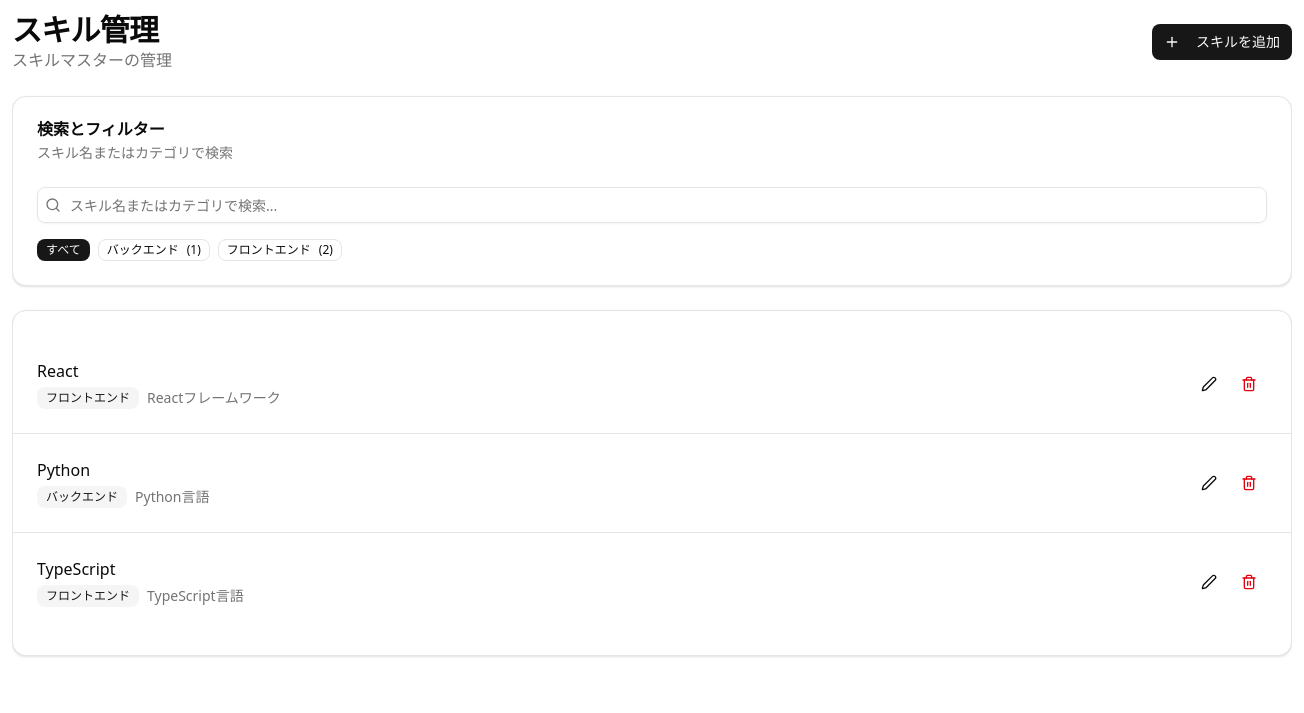
Scenario: Skills Component › 管理者の場合 › 編集をキャンセルできる
Expected: the text "React" is shown, [37,360,78,382]
Click the button named "編集" in the row of "Reactフレームワーク": (1209,384) [1191,366,1227,402]
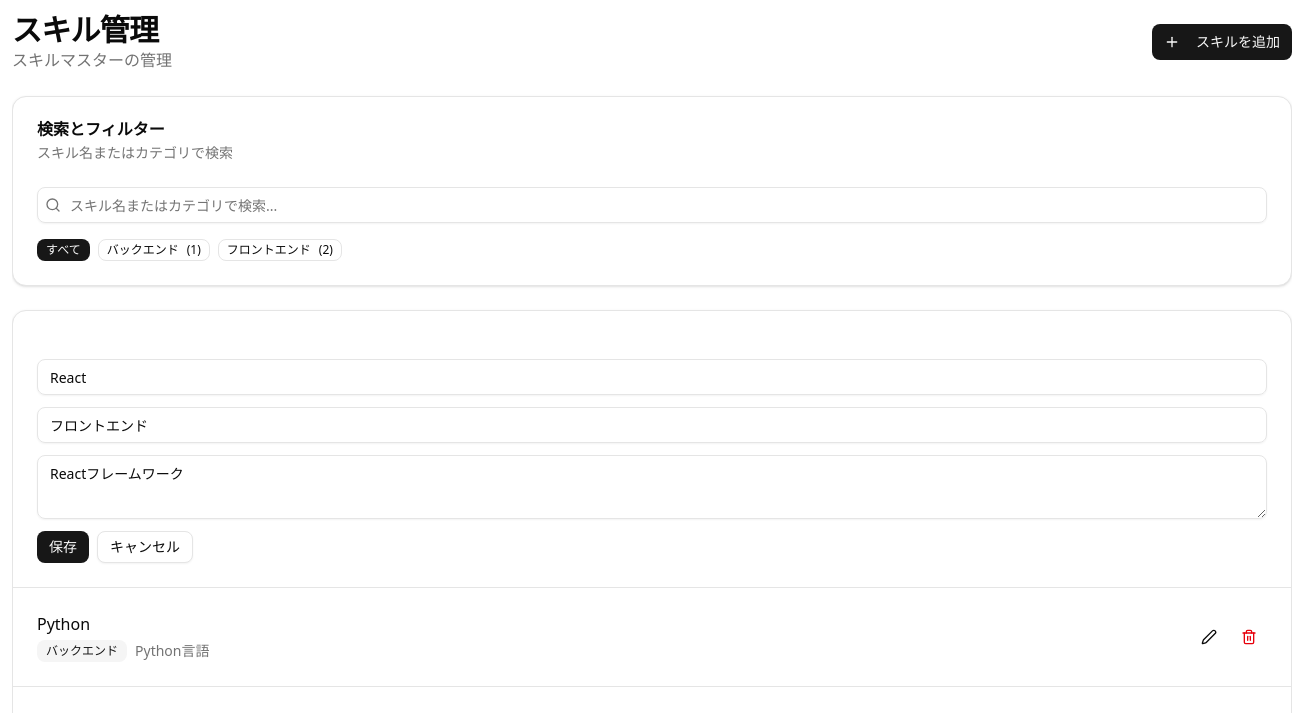
Click the button "キャンセル": (145,547) [97,531,193,563]
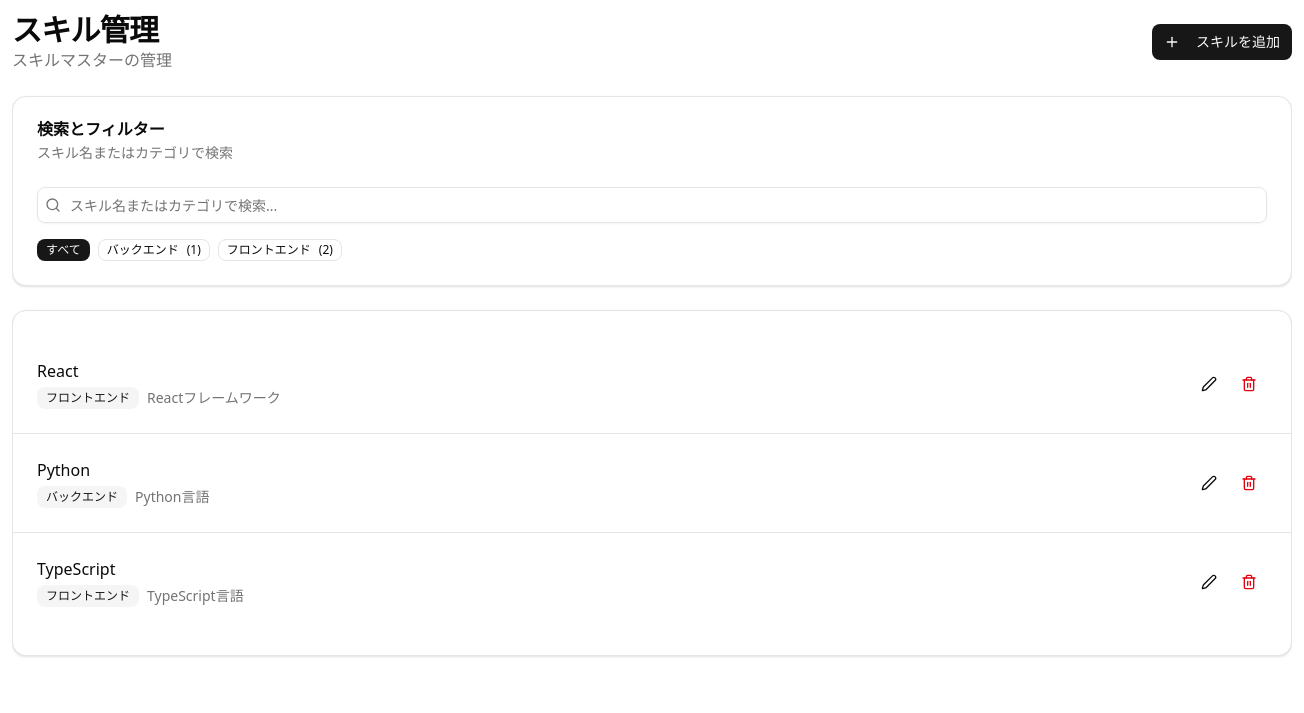
Expected: the text "React" is shown, [37,360,78,382]
